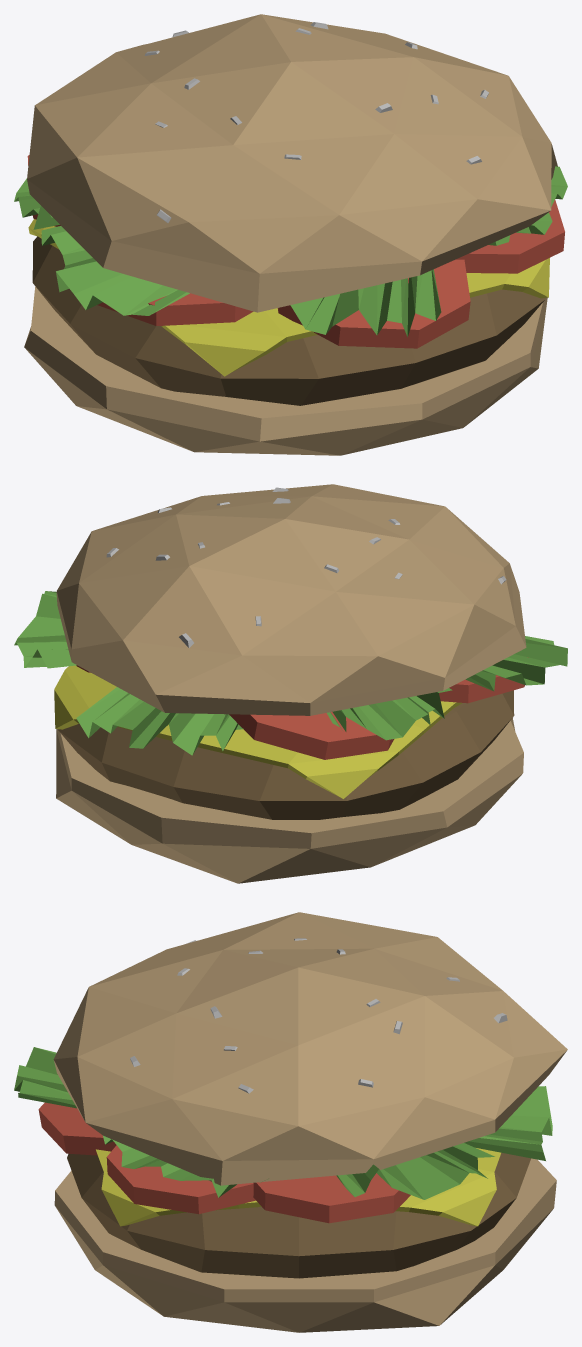
Rendered from Burger.glb.
3 views of the same model, one above another, from view 1: azimuth 30°, elevation 25°; view 2: azimuth 150°, elevation 25°; view 3: azimuth 270°, elevation 25° (orthographic). The views are drawn at different scales.
Parts seen in each view (by area): view 1: Burger; view 2: Burger; view 3: Burger.
Boxes of the visible parts, box(x1,y1,x2,y2) form: Burger: box(14, 14, 567, 455); Burger: box(14, 484, 567, 883); Burger: box(14, 912, 567, 1332).
Size of the model in its own units: 1.65 by 1.07 by 1.7.
